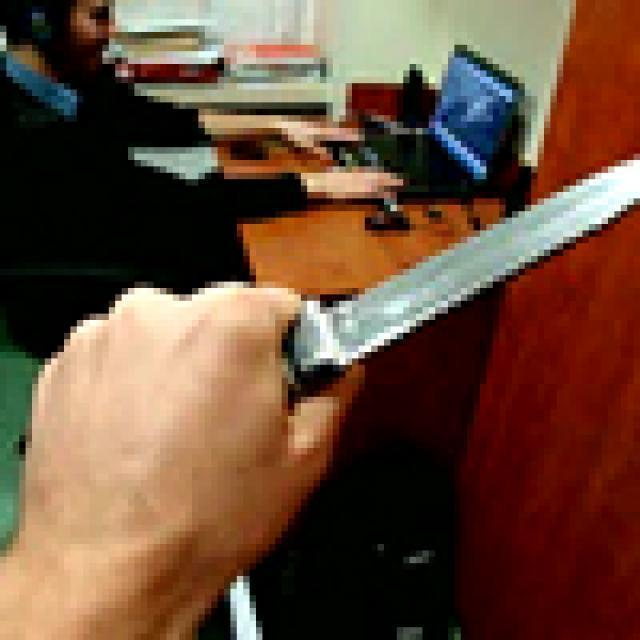knife: (186, 90, 634, 493)
